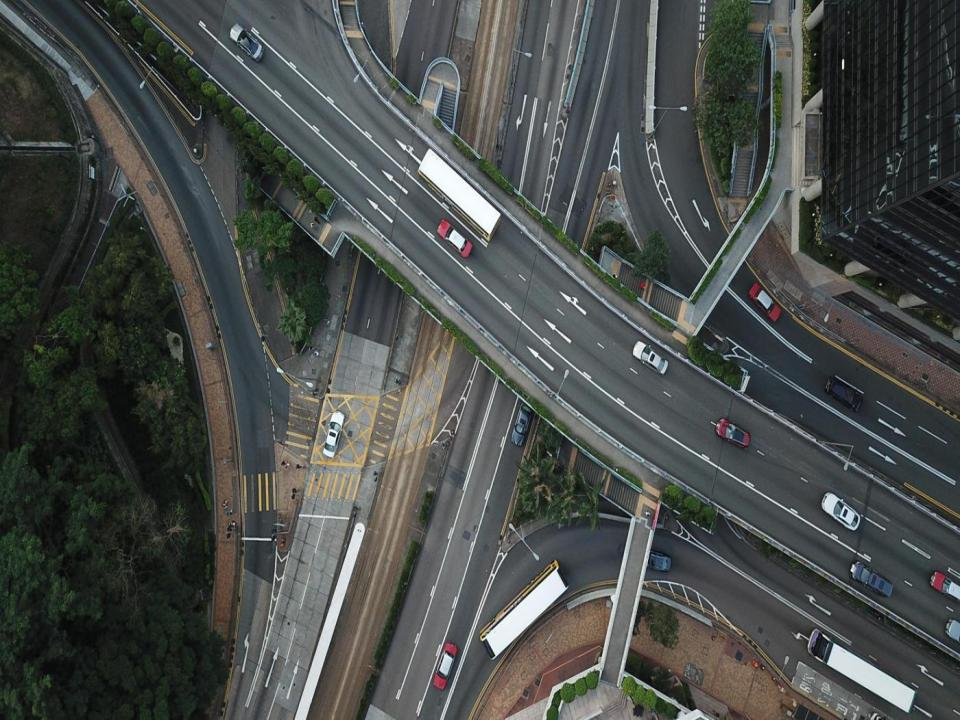bus: (804, 628, 916, 709), (416, 146, 501, 248), (480, 560, 571, 654)
car: (821, 372, 864, 410), (228, 20, 266, 60), (821, 492, 861, 530), (749, 282, 785, 322), (434, 641, 462, 690), (438, 223, 474, 258), (632, 341, 669, 375), (714, 419, 753, 450), (927, 565, 960, 601), (634, 546, 672, 576), (322, 408, 344, 458), (511, 402, 531, 446), (942, 614, 960, 639)
van: (849, 559, 895, 602)
